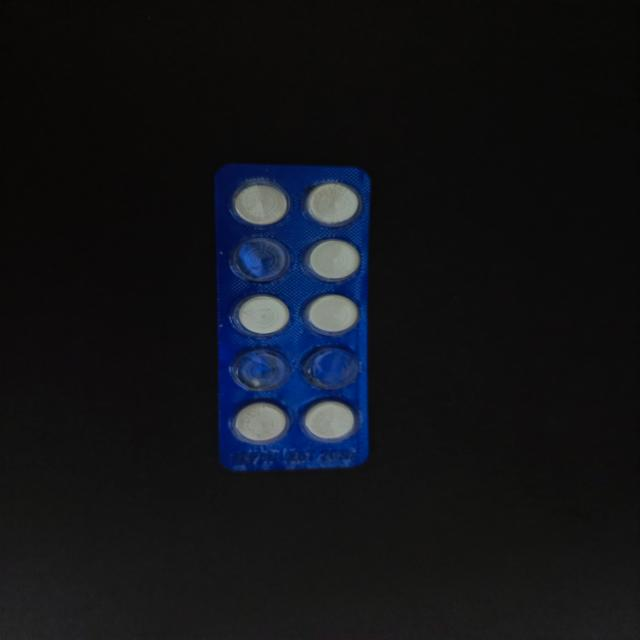defect: (225, 234, 294, 287), (225, 344, 293, 394), (298, 342, 363, 393)
